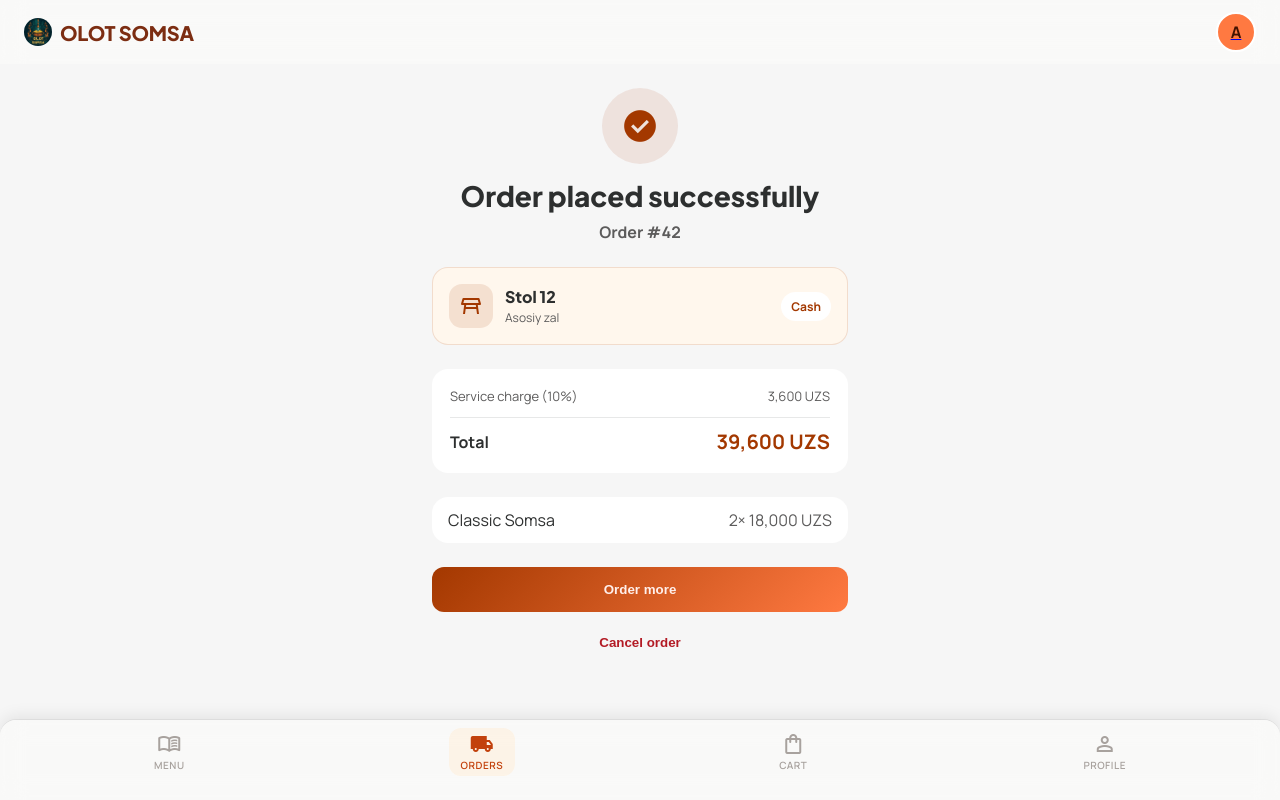
Scenario: ArtisanOrderStatusPage table mode › cancels a new table order after confirmation
The image size is (1280, 800).
Click the button "Cancel order" at [640, 642], box [432, 622, 848, 663]
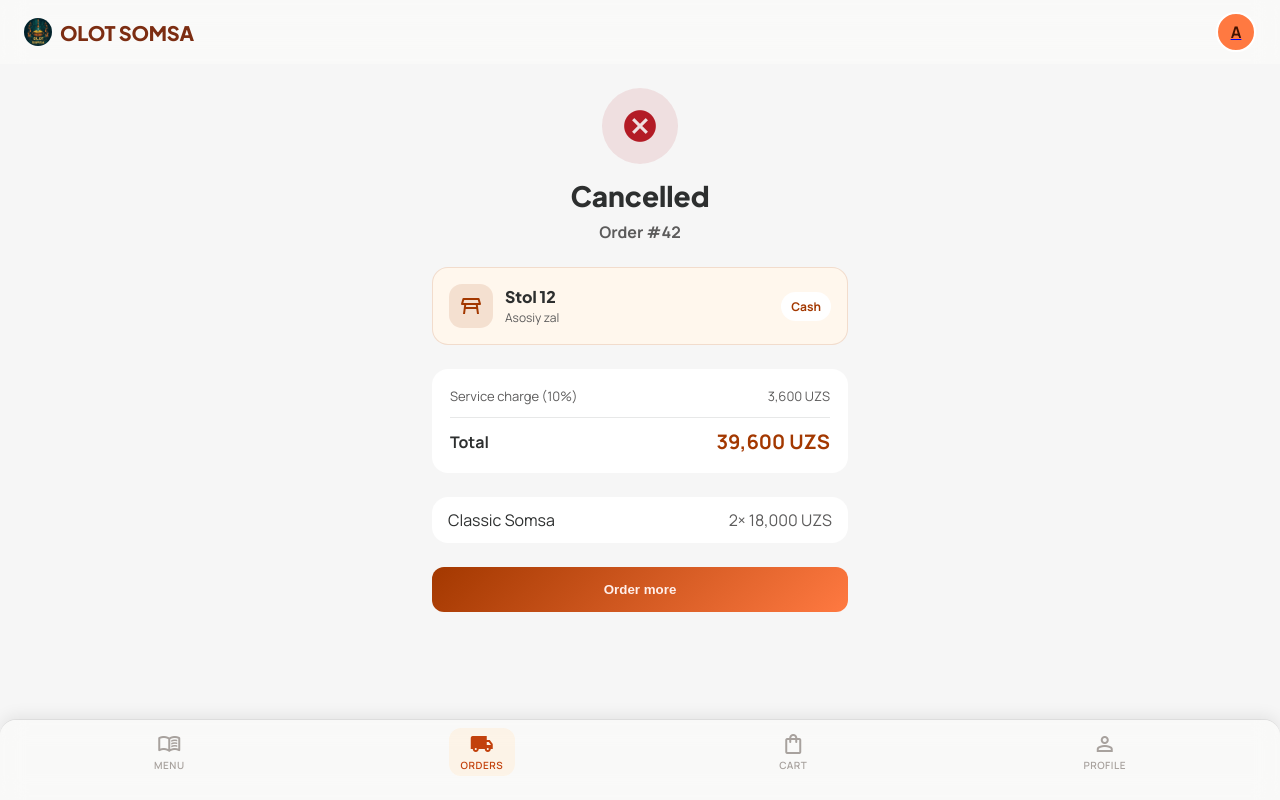
Now the heading "Cancelled" is shown, box [570, 178, 710, 213]
